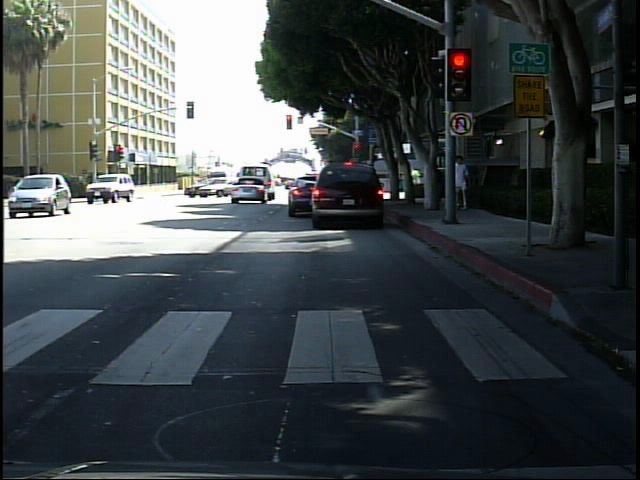person: (453, 153, 472, 219), (89, 171, 107, 205)
